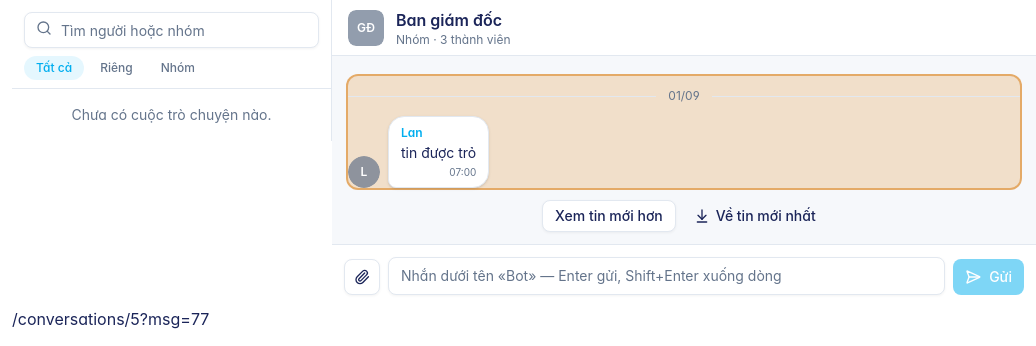
it: ConversationPage ?msg= › «Về tin mới nhất» drops ?msg and loads the latest page
Expected: the text "tin được trỏ" is shown, [401,143,476,163]
Step 1. Click the button "Về tin mới nhất" → (755, 216), box [684,200,826,232]
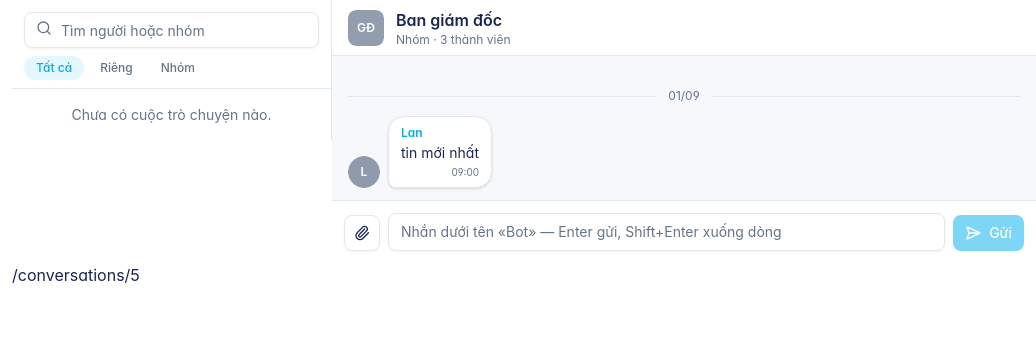
Now the text "tin mới nhất" is shown, box [401,143,479,163]
Now the text named "url" reads "/conversations/5", box [12,265,140,285]
Now the text named "url" no longer shows "msg=", box [12,265,140,285]
